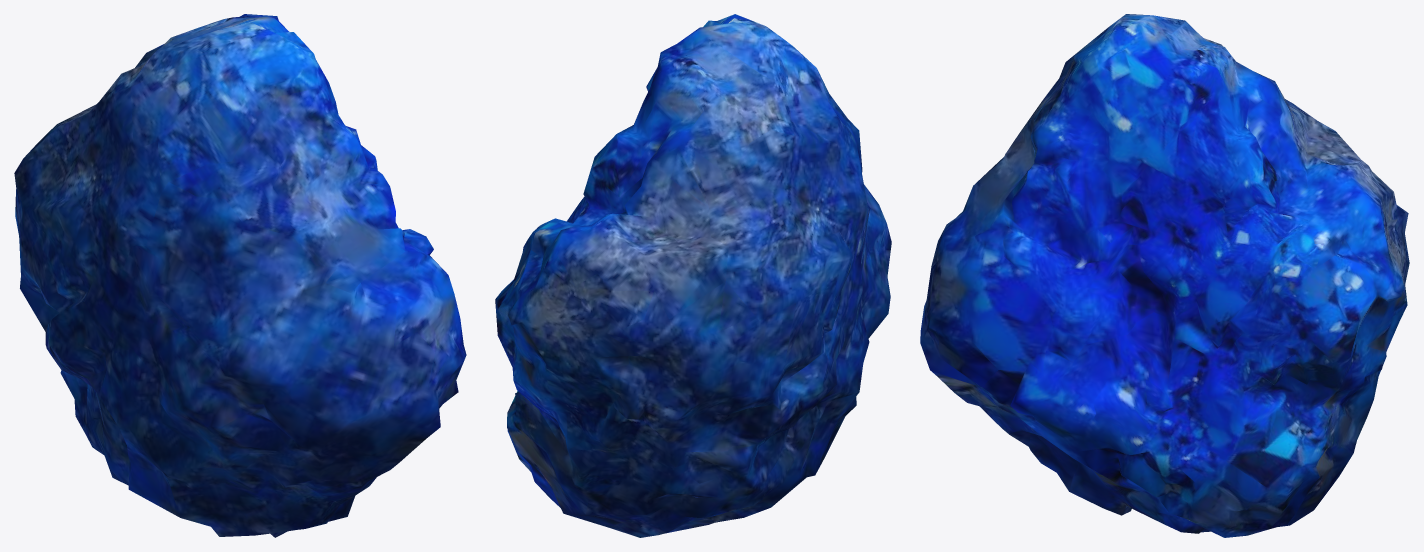
The model's file is qi_rare.glb.
The picture shows the model from 3 angles, left to right: view 1: azimuth 30°, elevation 25°; view 2: azimuth 150°, elevation 25°; view 3: azimuth 270°, elevation 25°; orthographic projection. The views are drawn at different scales.
Visible parts, largest first — view 1: tripo_node_e2490381-8493-4433-8451-01ad0cd1b4f3; view 2: tripo_node_e2490381-8493-4433-8451-01ad0cd1b4f3; view 3: tripo_node_e2490381-8493-4433-8451-01ad0cd1b4f3.
Boxes of the visible parts, x1,y1,x2,y2 form: tripo_node_e2490381-8493-4433-8451-01ad0cd1b4f3: (14,14,466,537); tripo_node_e2490381-8493-4433-8451-01ad0cd1b4f3: (495,14,891,537); tripo_node_e2490381-8493-4433-8451-01ad0cd1b4f3: (920,14,1409,537).
Bounding box in the file's own units: 0.6663 × 1 × 0.948.
Materials: 1 (1 with a texture image).
